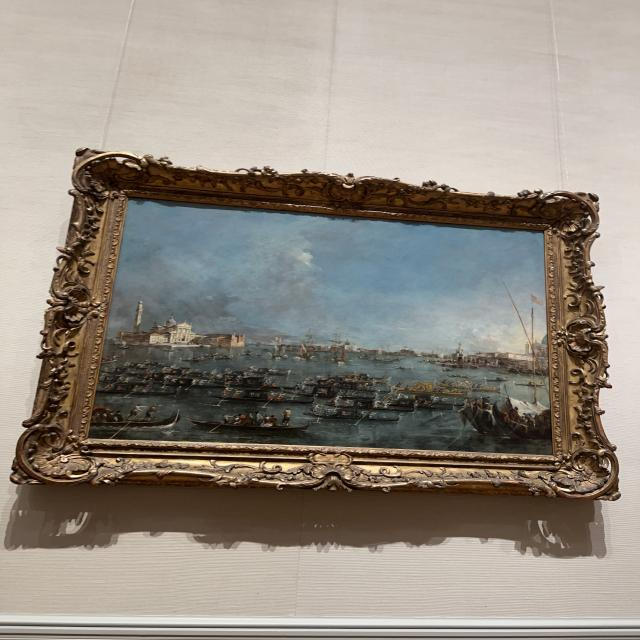ships: (95, 205, 548, 449)
